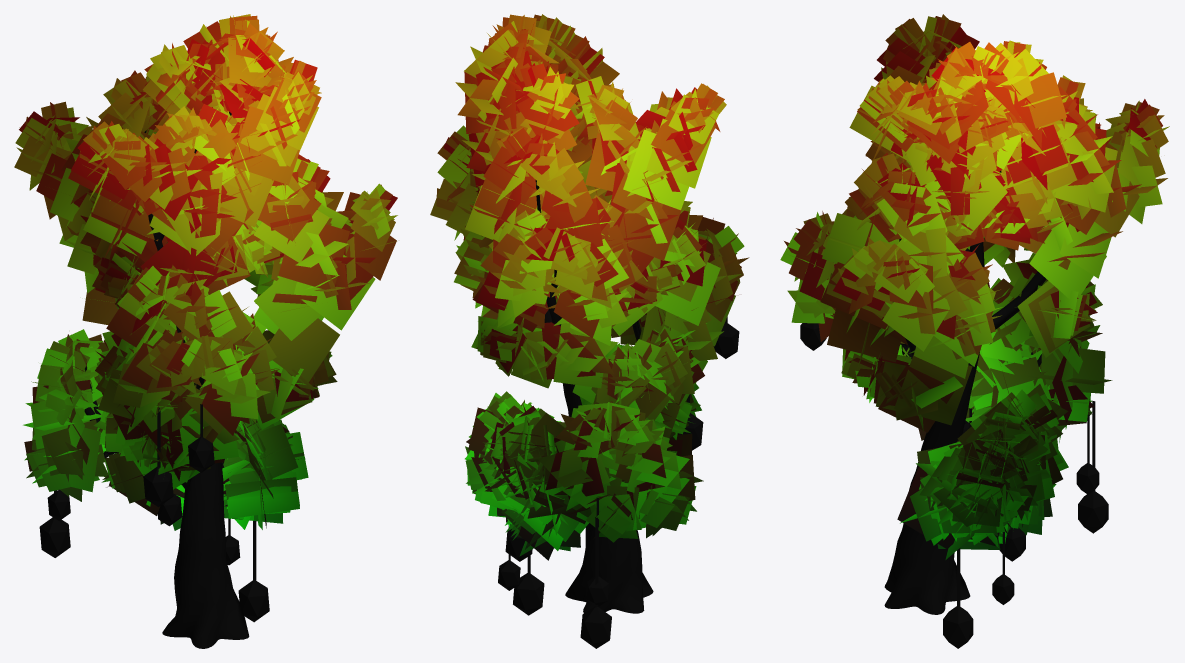
The model's file is env_tree_bg_qt_twisted_4.fbx.
The picture shows the model from 3 angles, left to right: view 1: azimuth 30°, elevation 25°; view 2: azimuth 150°, elevation 25°; view 3: azimuth 270°, elevation 25°; orthographic projection. The views are drawn at different scales.
Visible parts, largest first — view 1: env_tree_bg_qt_twisted_4; view 2: env_tree_bg_qt_twisted_4; view 3: env_tree_bg_qt_twisted_4.
Part boxes in pixels (x1,y1,x2,y2): env_tree_bg_qt_twisted_4: (14,14,397,648); env_tree_bg_qt_twisted_4: (430,14,749,648); env_tree_bg_qt_twisted_4: (780,14,1169,648).
Size of the model in its own units: 10.38 by 19.41 by 11.29.
